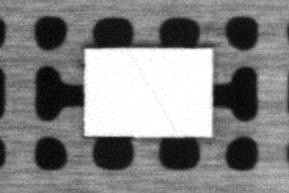DIE_CRACK: (128, 52, 174, 129)
